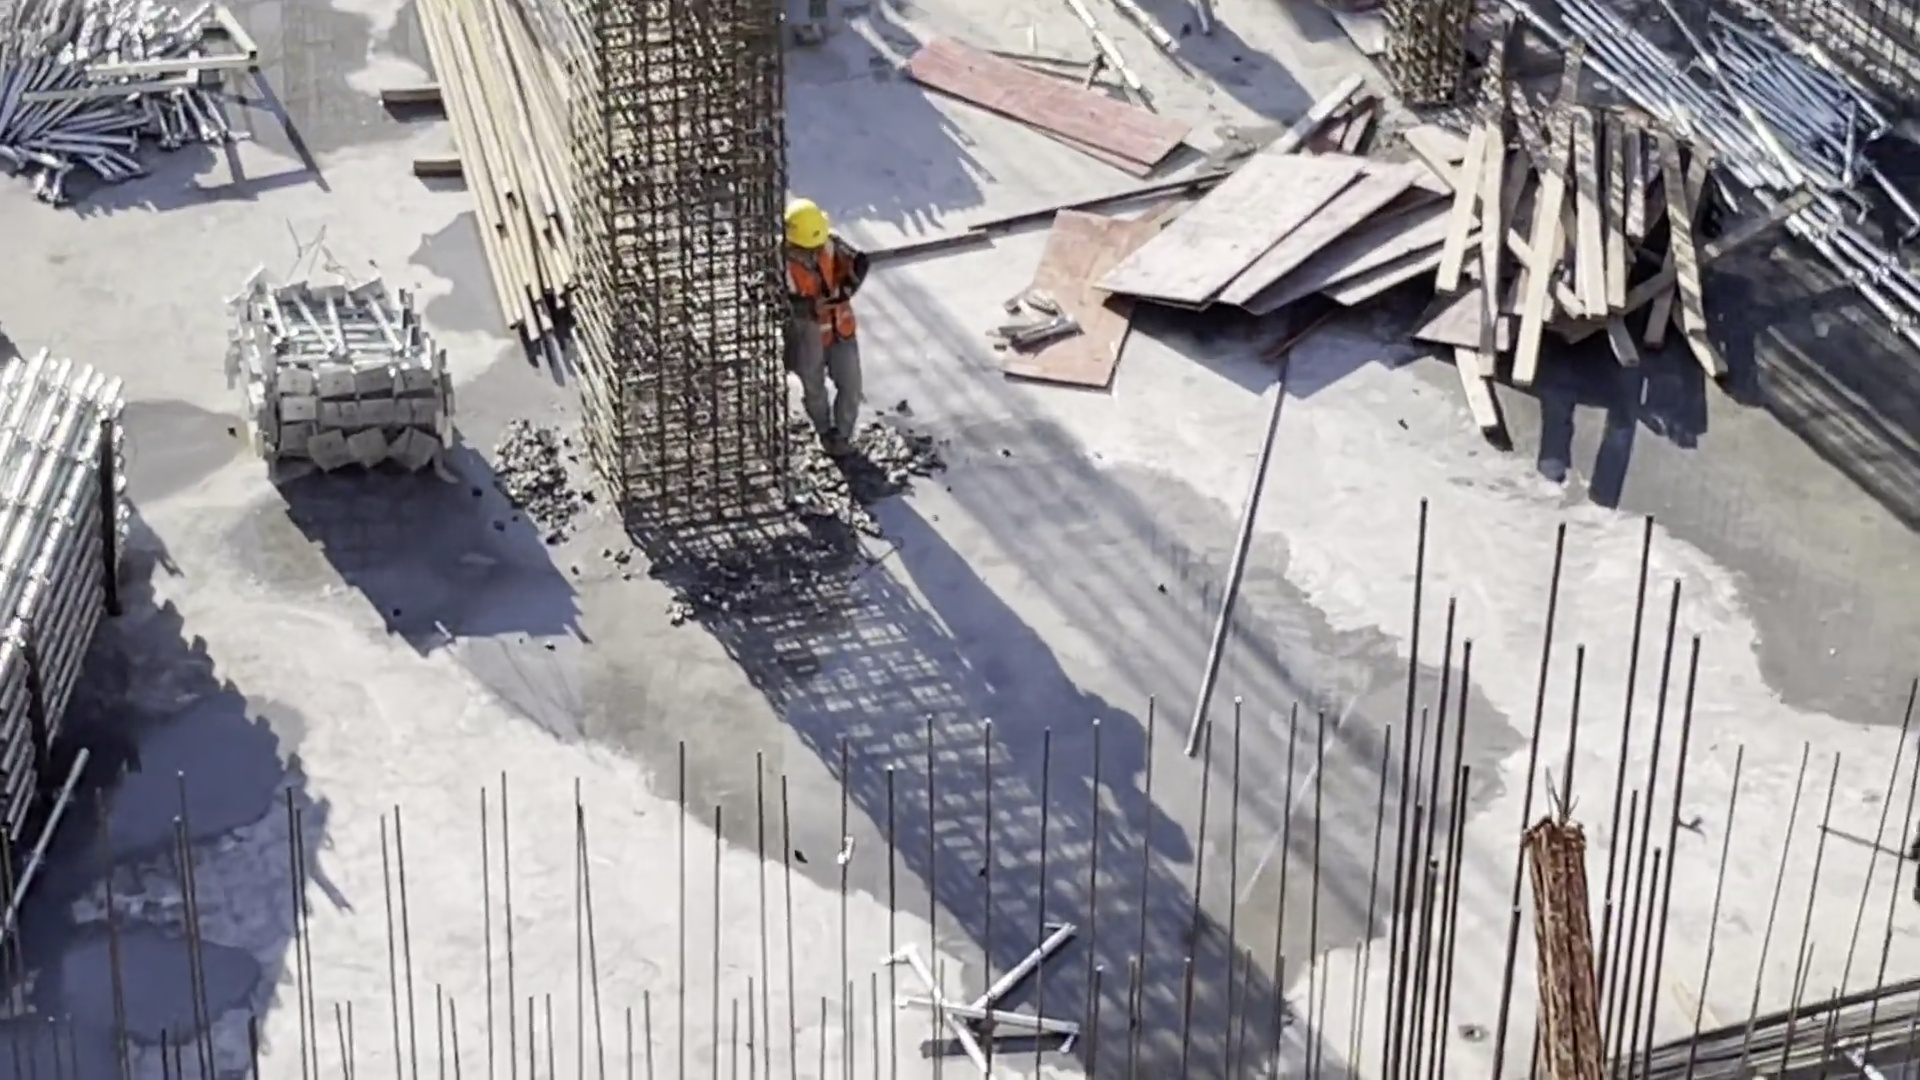board: (1100, 154, 1458, 321)
helmet: (781, 194, 832, 248)
person: (763, 195, 878, 474)
rebar: (1615, 971, 1919, 1080)
scaffold: (1, 345, 169, 902), (1, 11, 261, 205), (244, 279, 461, 487)
vest: (780, 234, 861, 335)
wood: (1449, 108, 1700, 370)
